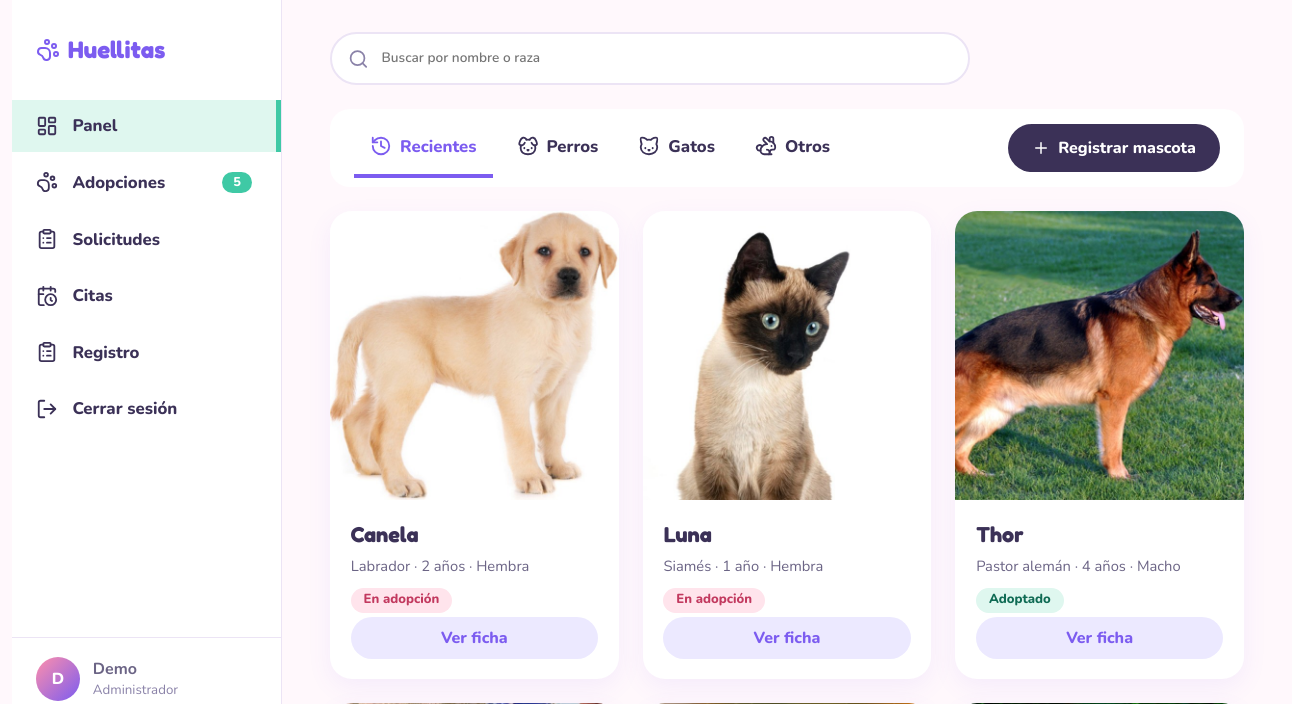
Scenario: Solicitudes de adopción › la solicitud sigue ahí tras "recargar" (desmontar y volver a montar)
The width and height of the screenshot is (1292, 704).
Earlier steps of the test are not shown.
Click the button "Solicitudes". click: (146, 239)
box: [12,213,281,265]
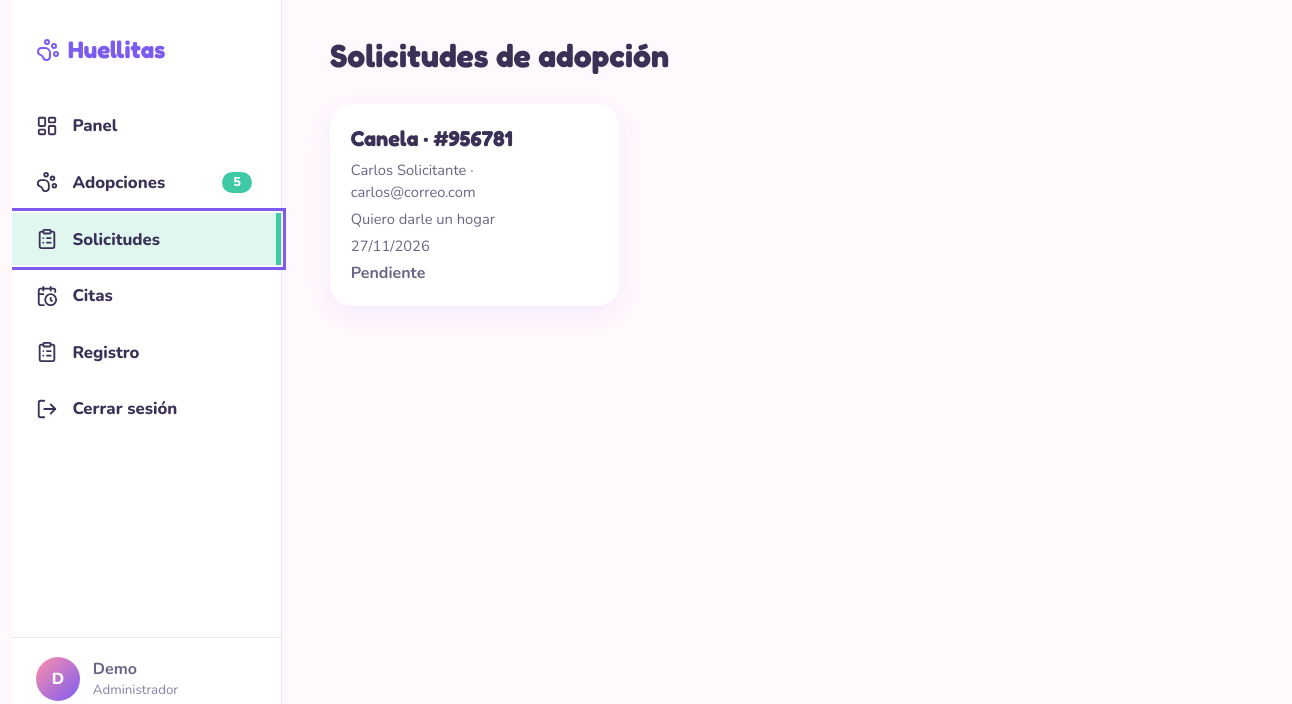
Check: the heading "Canela · #956781" is shown, box [351,125,513,151]
Check: the text "Pendiente" is shown, box [351,262,425,284]
